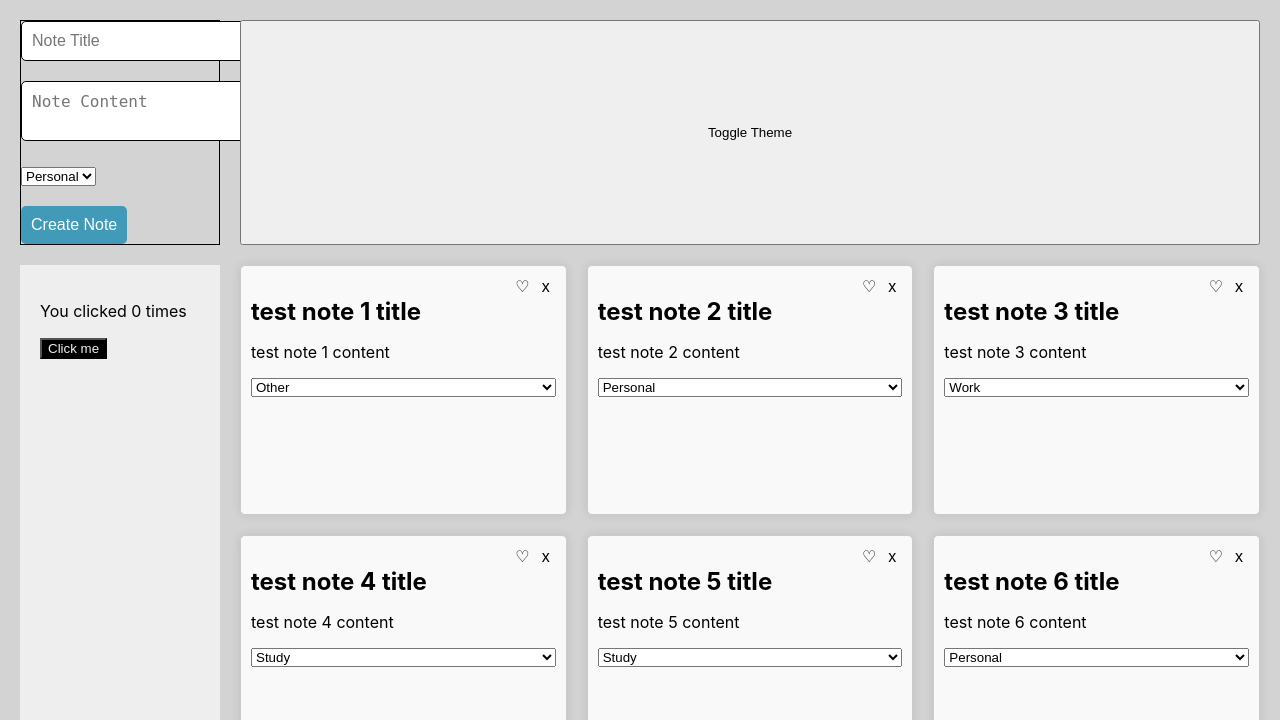
it: Sticky Notes Component › updates note title and content
In the field with placeholder "Note Title": (136, 41) [21,21,250,61], type "Initial Title"
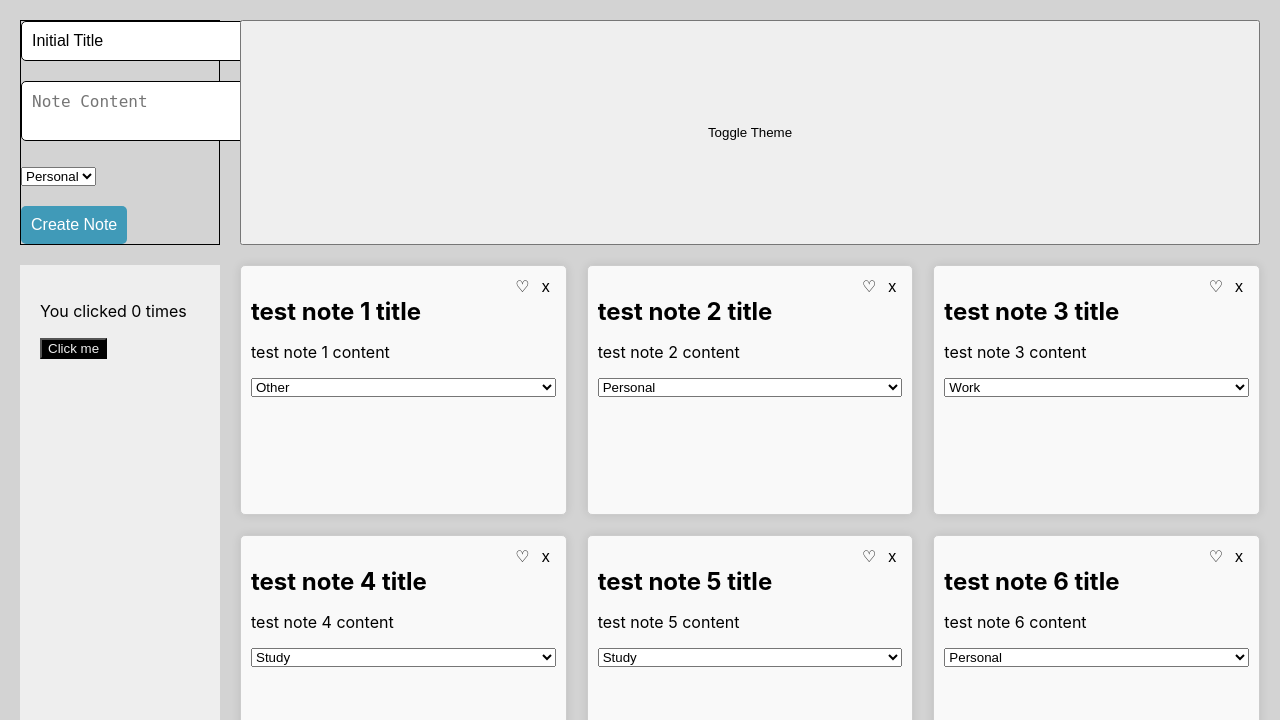
In the text box with placeholder "Note Content": (140, 111) [21,81,258,141], type "Initial Content"
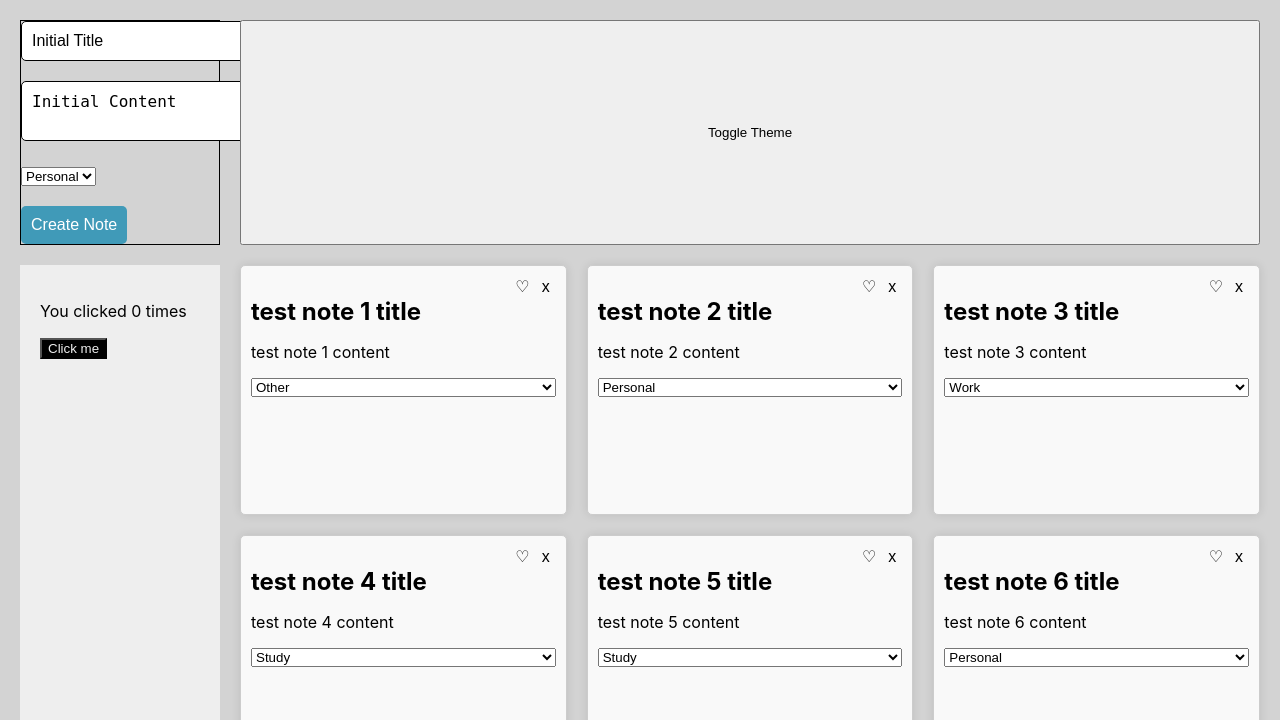
Click the button "Create Note": (74, 225) [21,206,127,244]
(page scrolled)
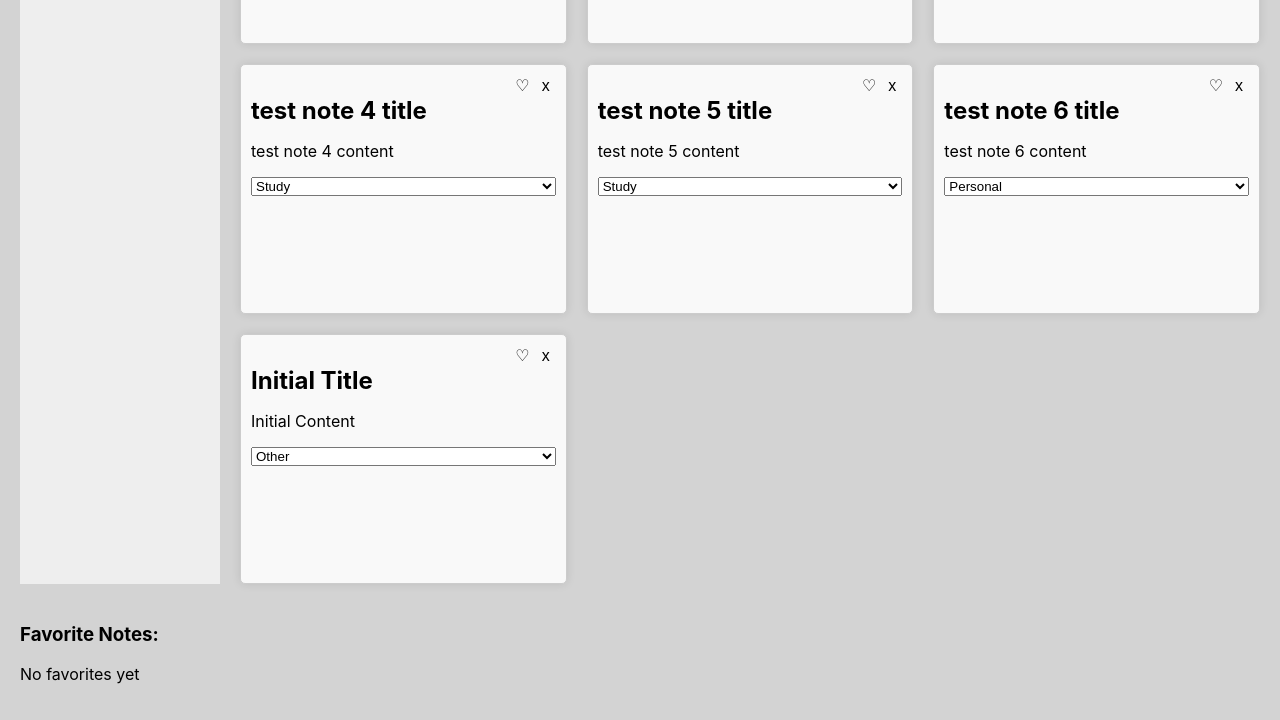
Now the heading "Initial Title" is shown
Now the text box "Initial Content" is shown, box [251,411,355,431]
Note: update title and content
Leave the heading "Initial Title", box [251,366,373,395]
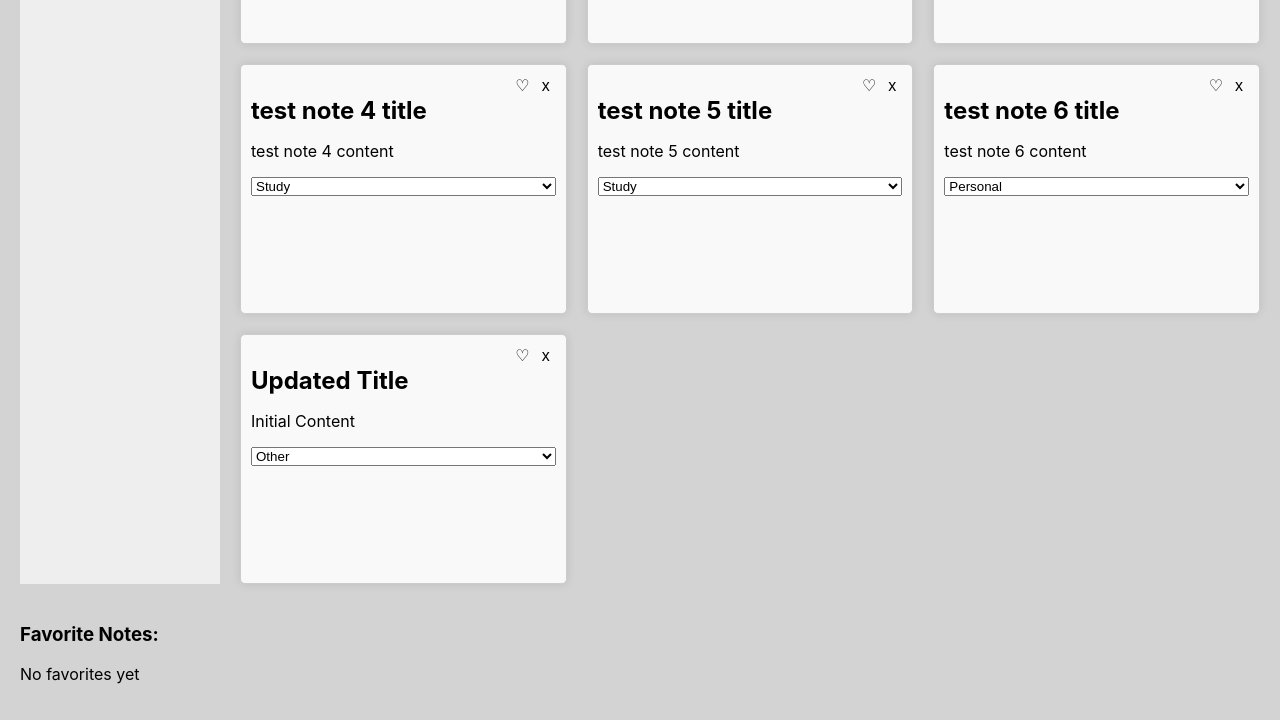
Leave the text box "Initial Content", box [251,411,355,431]
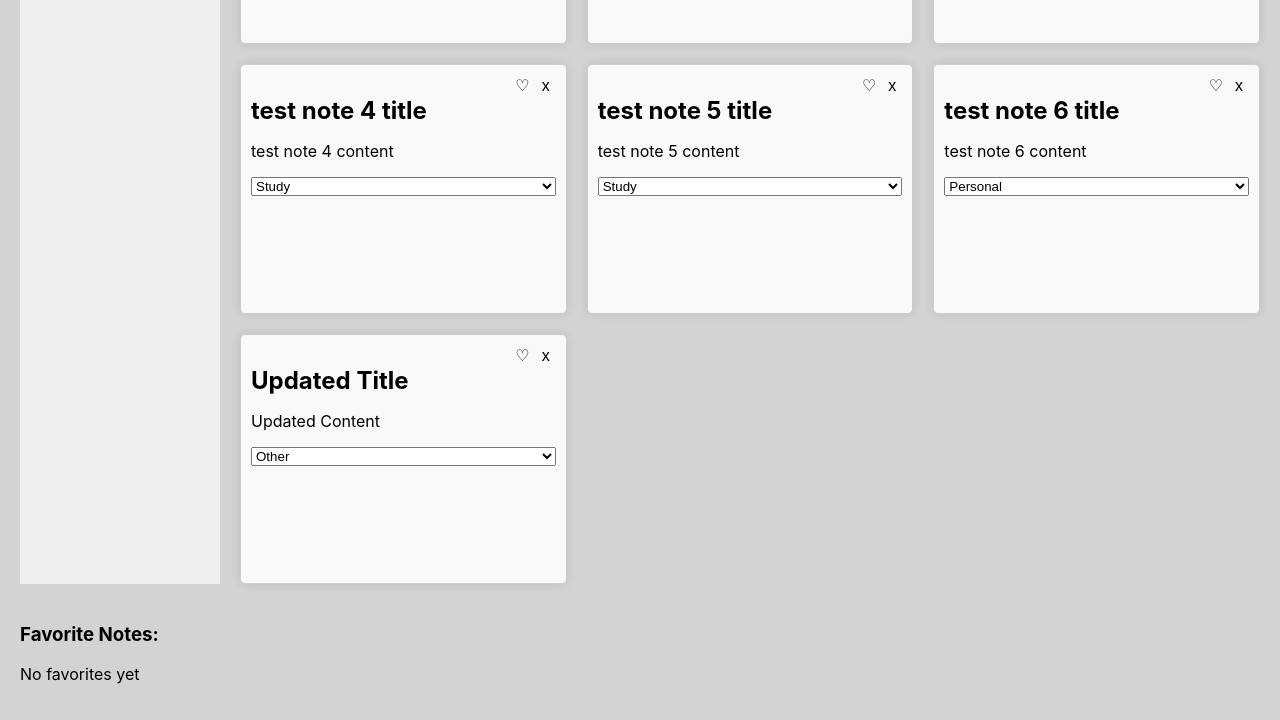
Now the heading "Updated Title" is shown, box [251,366,409,395]
Now the text box "Updated Content" is shown, box [251,411,380,431]
